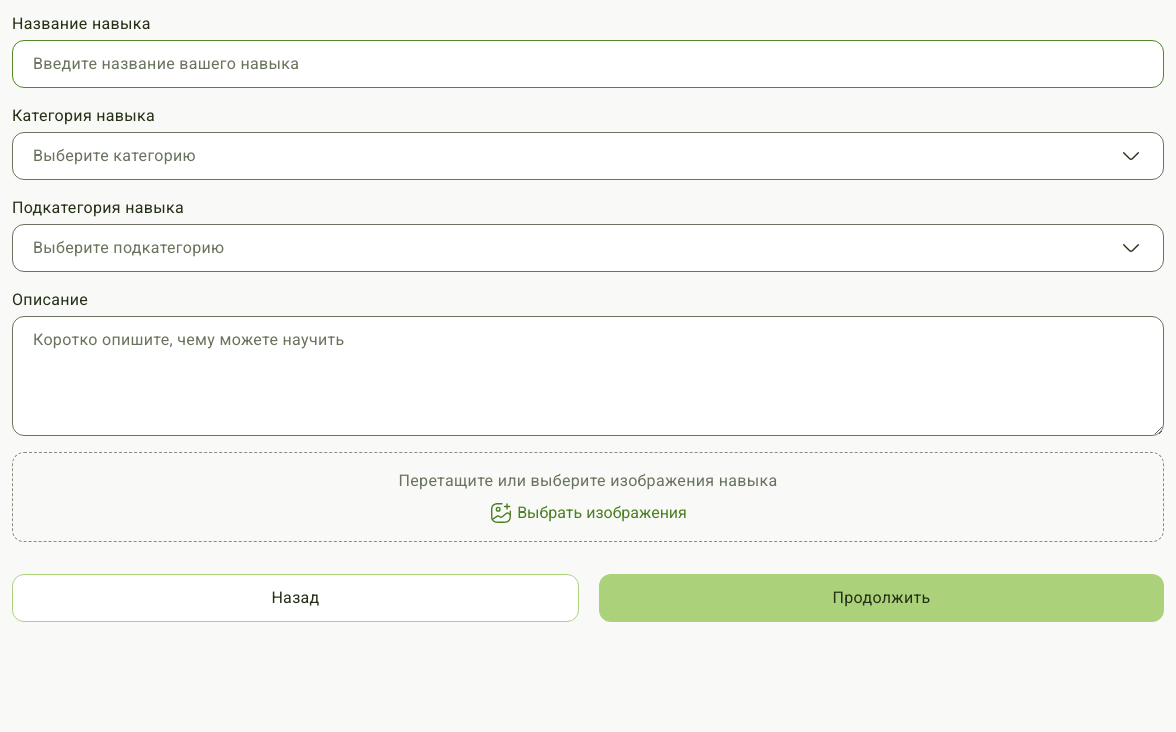
Test: SkillForm › не отправляет пустую форму и показывает ошибки обязательных полей
Click the button "Продолжить" at (882, 598), box [599,574,1164,622]
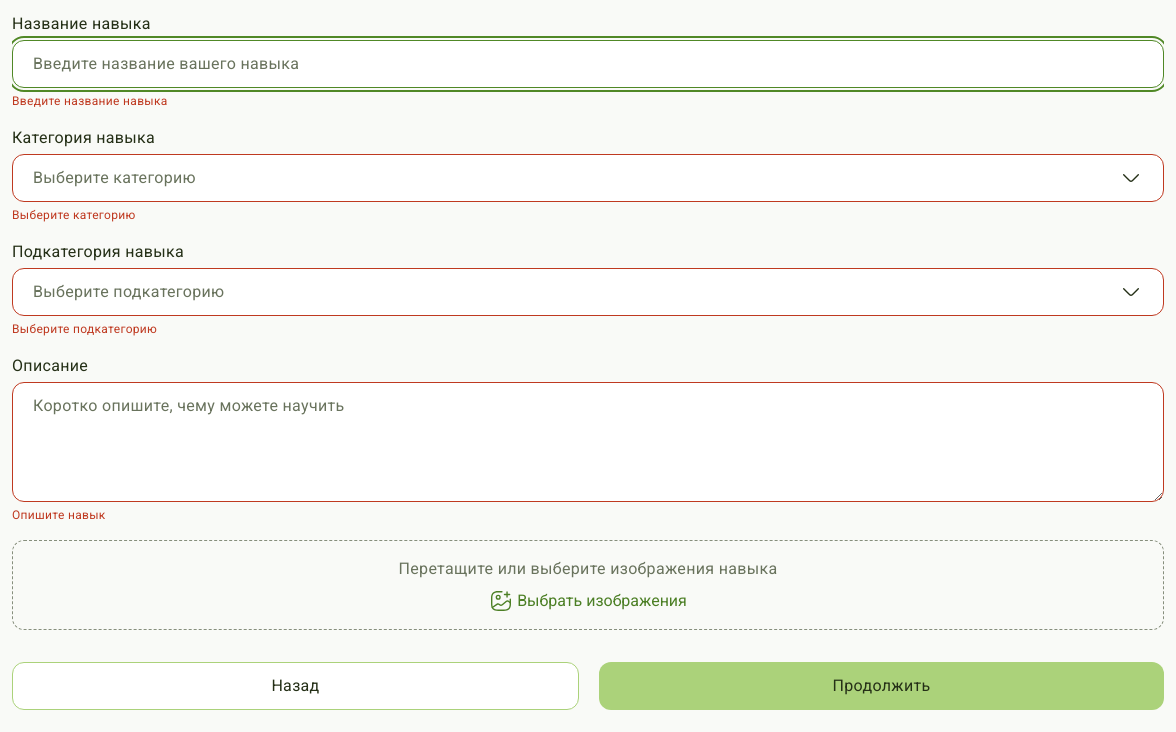
Check: the text "Введите название навыка" is shown, box [12,94,168,108]
Check: the text "Опишите навык" is shown, box [12,508,106,522]
